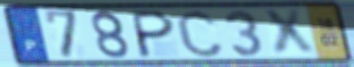3: (223, 7, 265, 59)
7: (41, 9, 82, 61)
8: (90, 9, 131, 60)
C: (173, 7, 226, 59)
P: (132, 8, 177, 60)
X: (260, 8, 319, 58)
